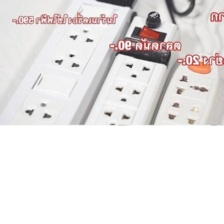three_eye_plug: (0, 0, 136, 152), (76, 6, 184, 152), (142, 46, 223, 152)
